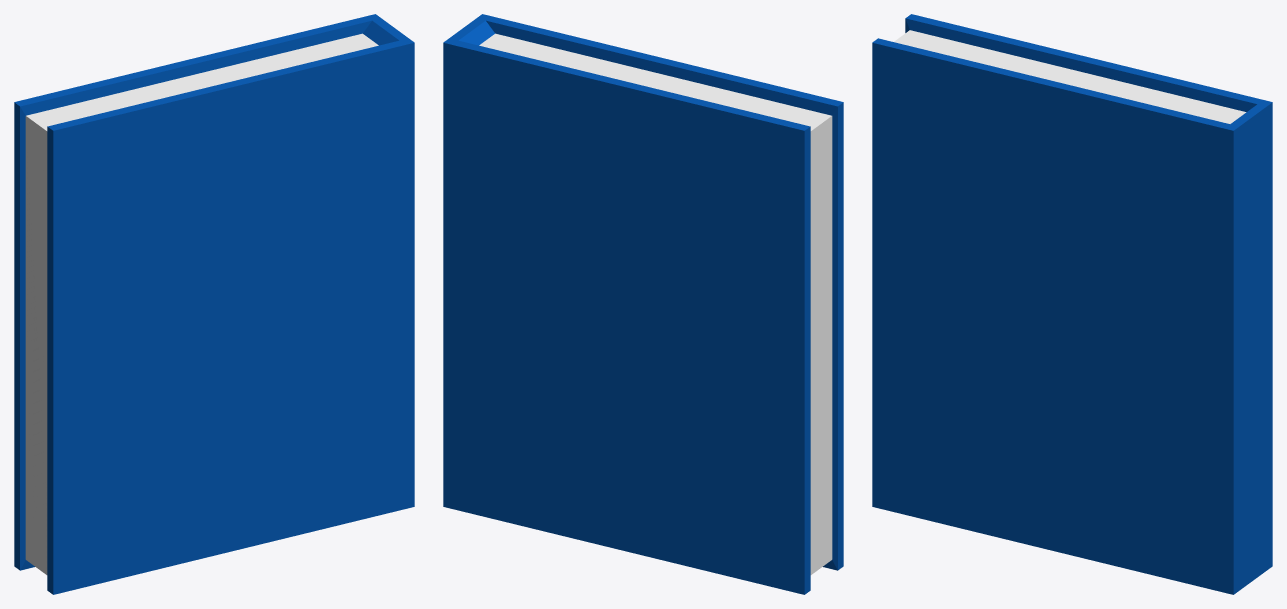
The model's file is Book.fbx.
The picture shows the model from 3 angles, left to right: view 1: azimuth 30°, elevation 25°; view 2: azimuth 150°, elevation 25°; view 3: azimuth 330°, elevation 25°; orthographic projection.
Parts seen in each view (by area): view 1: Book; view 2: Book; view 3: Book.
Boxes of the visible parts, x1,y1,x2,y2 form: Book: (14,14,414,594); Book: (443,14,843,594); Book: (872,14,1272,594).
Size of the model in its own units: 0.1719 by 0.211 by 0.0323.
